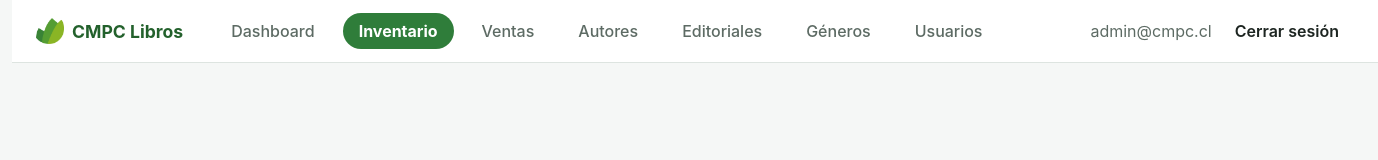
Test: AuthenticatedLayout › logs out, clears the cache and goes to login
The image size is (1378, 160).
What coordinates should you click on to do the following:
click the button "Cerrar sesión"
I would click on:
 (1287, 31)
Its box is [1220,12,1354,50].
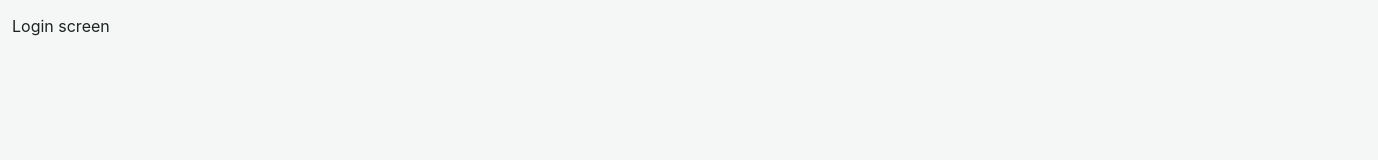
Expected: the text "Login screen" is shown, [12,16,110,36]
